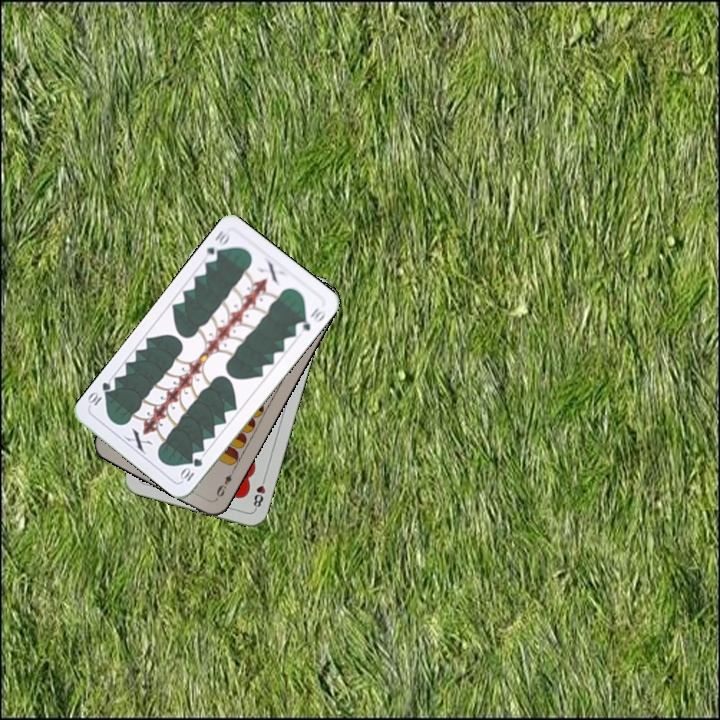E9: (212, 465, 237, 502)
G10: (200, 226, 233, 265), (176, 454, 205, 484)
H8: (249, 472, 268, 512)
